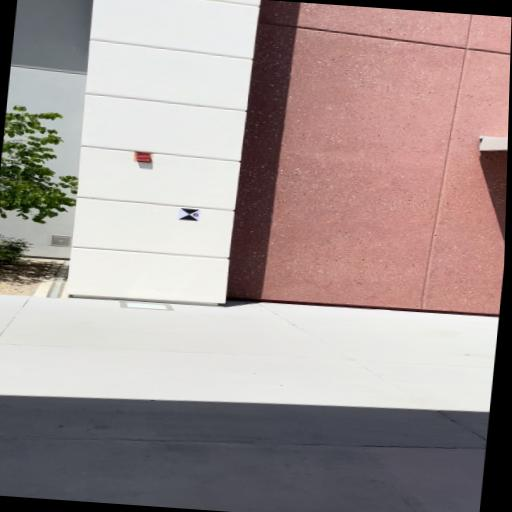target6: (177, 208, 200, 222)
